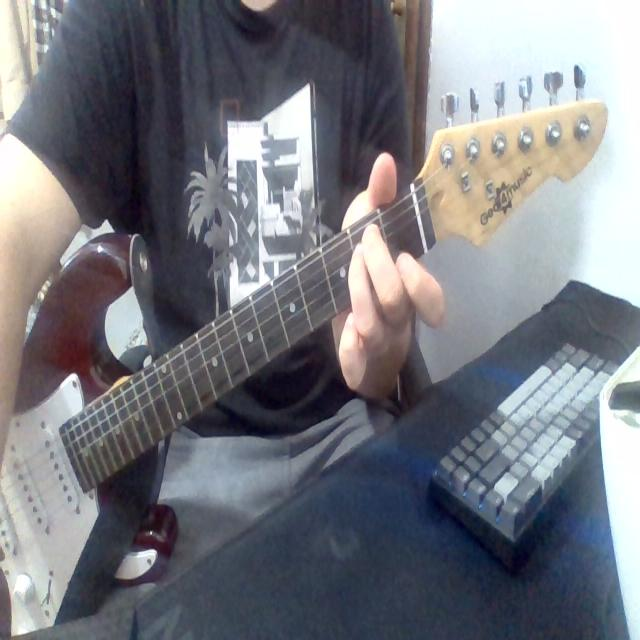Em: (324, 193, 405, 324)
